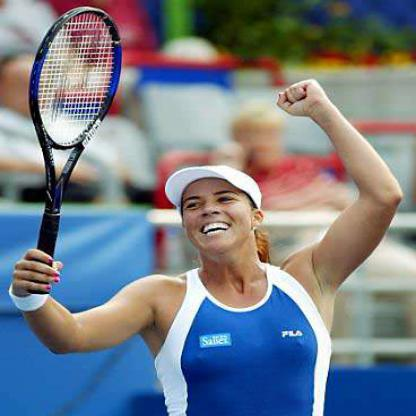face: (180, 167, 254, 256)
